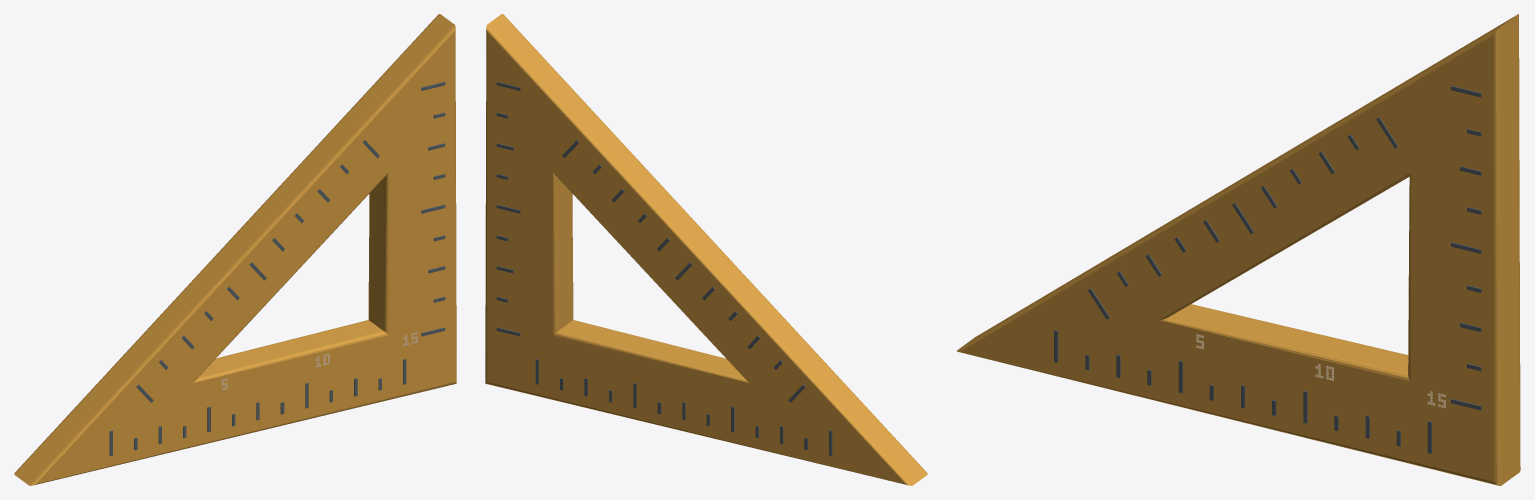
The model's file is workshop-triangle-small-details.glb.
3 views of the same model, side by side, from view 1: azimuth 30°, elevation 25°; view 2: azimuth 150°, elevation 25°; view 3: azimuth 330°, elevation 25° (orthographic). The views are drawn at different scales.
Parts seen in each view (by area): view 1: brass, steelInset; view 2: brass, steelInset; view 3: brass, steelInset.
Part boxes in pixels (x1,y1,x2,y2): brass: (14, 14, 456, 485); steelInset: (109, 82, 445, 456); brass: (485, 14, 927, 485); steelInset: (496, 82, 832, 456); brass: (957, 14, 1520, 485); steelInset: (1054, 86, 1481, 453).
Size of the model in its own units: 0.3058 by 0.2457 by 0.0242.
